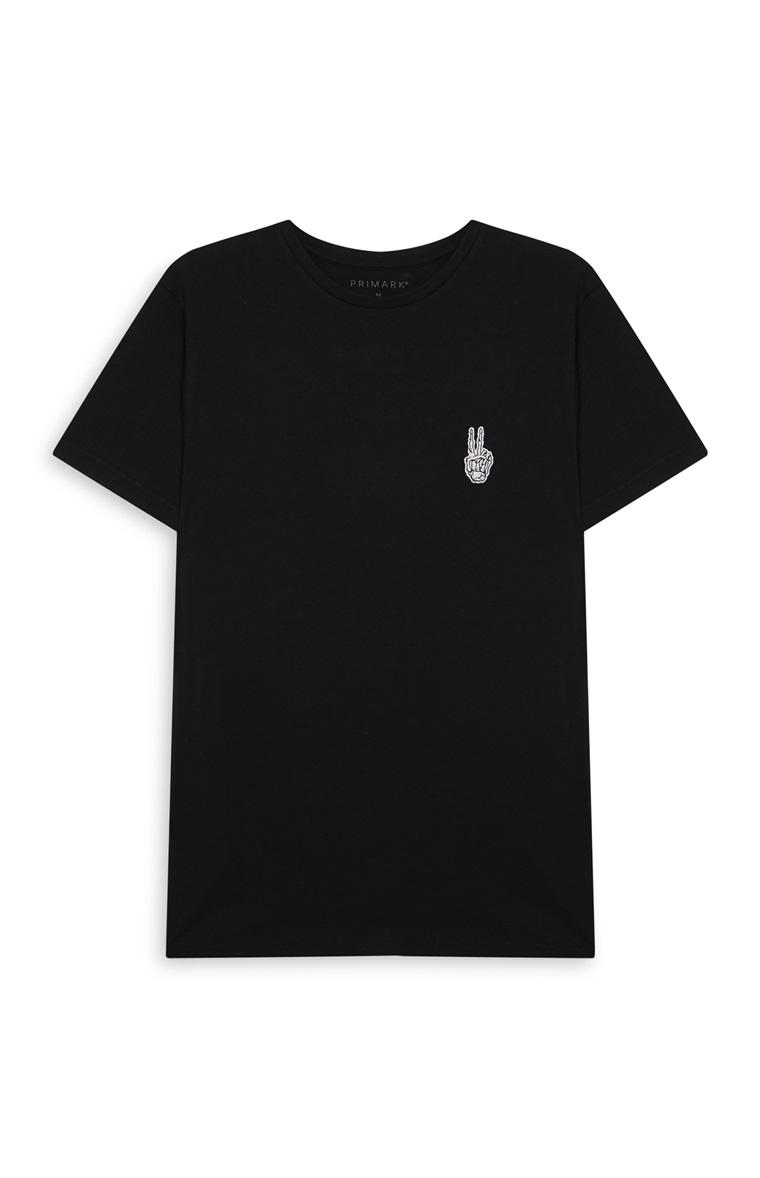teeshirt: (8, 8, 752, 1170)
